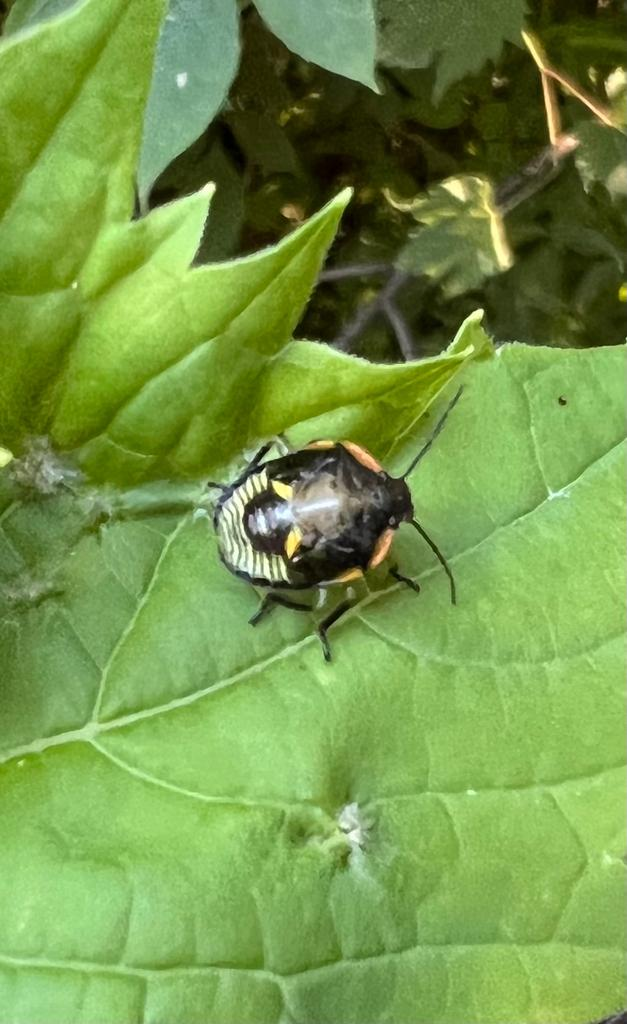stink_bugs: (130, 342, 519, 706)
